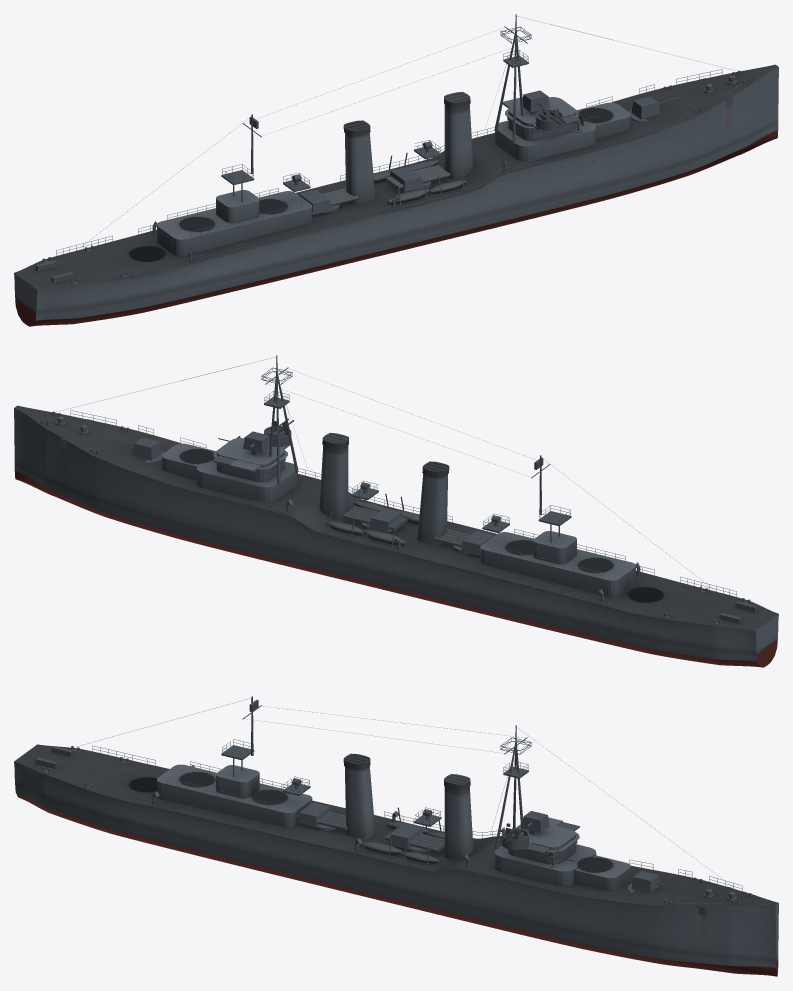
The model's file is fletcher-dd-blender.glb.
3 views of the same model, one above another, from view 1: azimuth 30°, elevation 25°; view 2: azimuth 150°, elevation 25°; view 3: azimuth 330°, elevation 25° (orthographic).
Visible parts, largest first — view 1: Bottom, Kit_mount-5in38-single; view 2: Bottom, Kit_mount-5in38-single; view 3: Bottom, Kit_mount-5in38-single, Kit_mount-40mm-twin.
Part boxes in pixels (x1,y1,x2,y2): Bottom: (14, 14, 778, 326); Kit_mount-5in38-single: (629, 96, 660, 121); Bottom: (14, 355, 778, 667); Kit_mount-5in38-single: (132, 437, 163, 462); Bottom: (14, 696, 778, 976); Kit_mount-5in38-single: (628, 871, 660, 892); Kit_mount-40mm-twin: (501, 823, 528, 849).
Bounding box in the file's own units: 115 × 28.96 × 14.08.
Materials: 3 (1 with a texture image).
